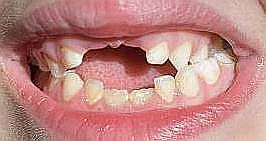Hypodontia: (79, 45, 150, 67)
